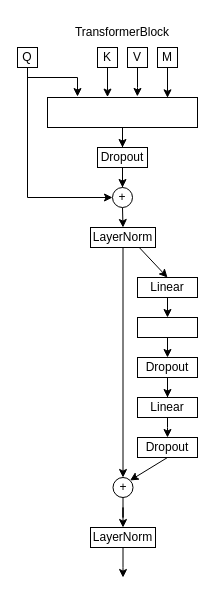
Image size: 215x603. Some labels were removed from this diagram. Here are the shapes that lost their labels. From the top down, the box of each, then its label:
(46, 96, 198, 128): AttentionBlock
(136, 316, 198, 338): GeLU
